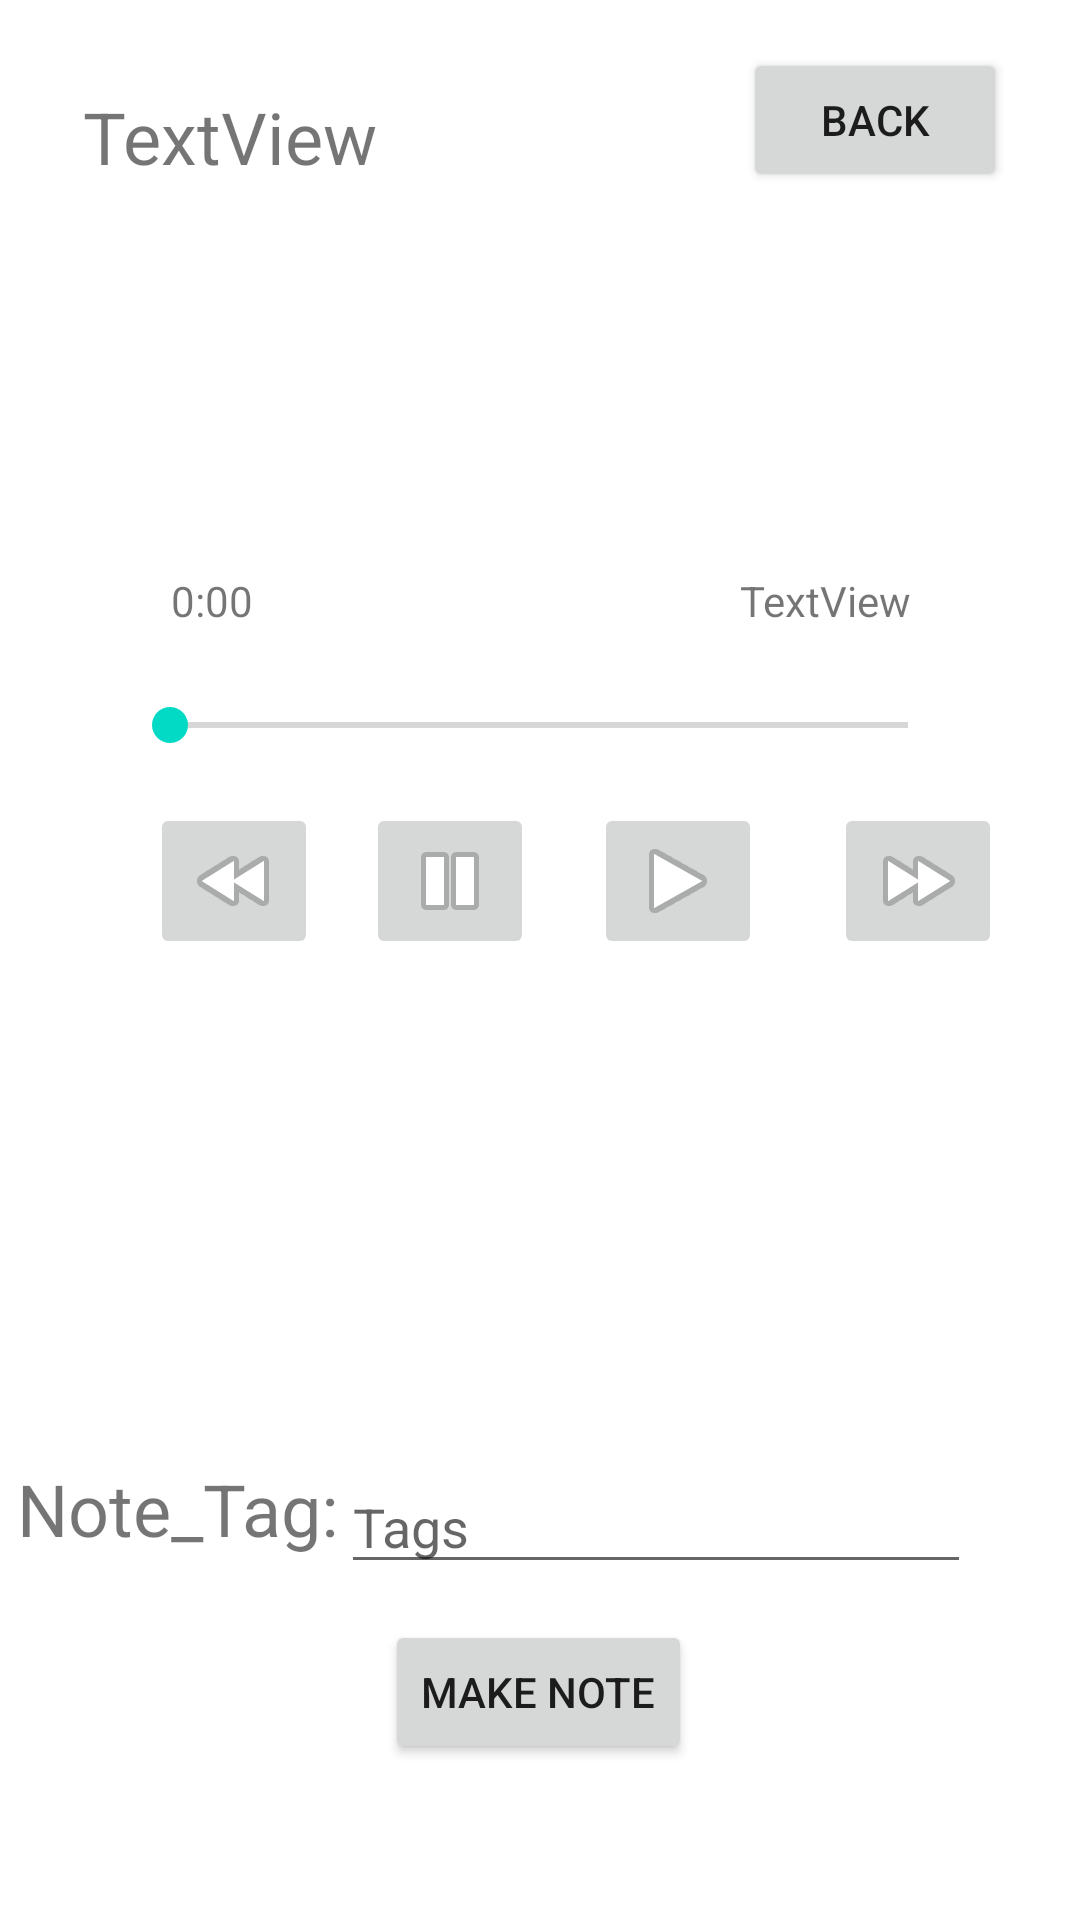

Icons on this 1080 × 1920 Android screen, each with its box as (x1, y1, x2, y2):
pause: (378, 821, 522, 941)
play: (606, 821, 750, 941)
rew: (162, 821, 306, 941)
